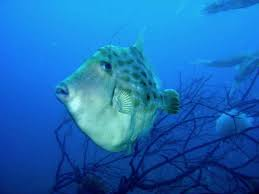kawahagi: (51, 28, 183, 159)
